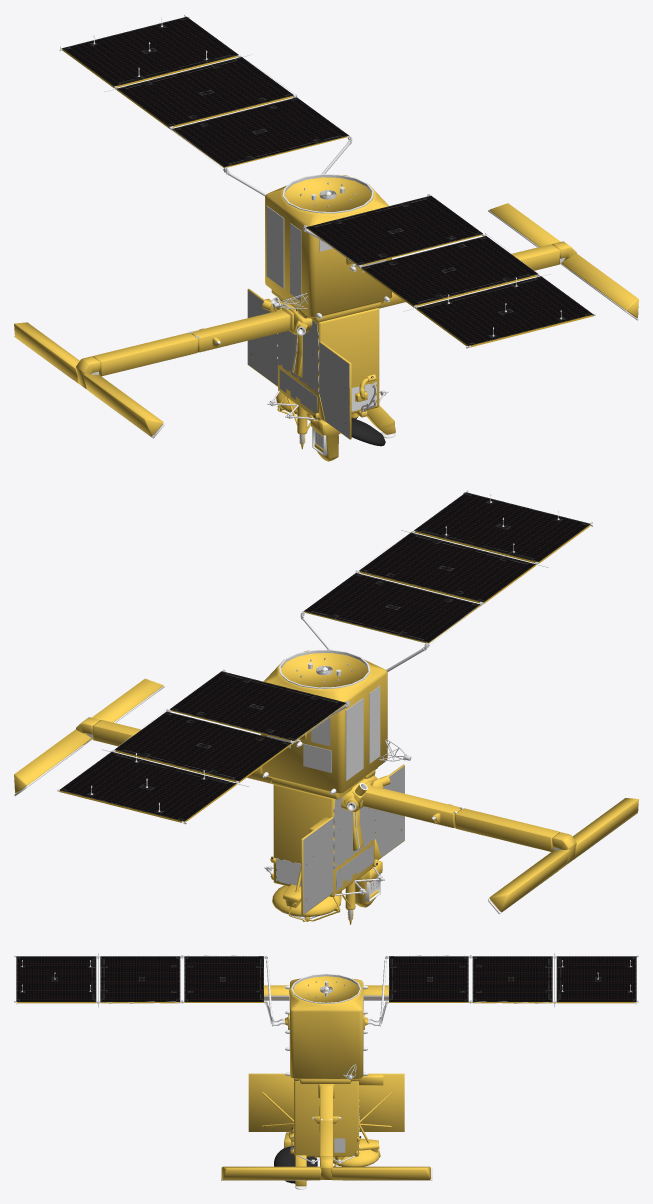
Rendered from sc_swot.glb.
3 views of the same model, one above another, from view 1: azimuth 30°, elevation 25°; view 2: azimuth 150°, elevation 25°; view 3: azimuth 270°, elevation 25° (orthographic). The views are drawn at different scales.
Parts seen in each view (by area): view 1: Cube.048, Cube.050, Cube.001, SC_2022_Gimbal_SWOT_SC_2022_cnes_bus_2021_sculpt1_cnes_bus_., Cube.024, Cube.003, Cube.026, Cube.061, SC_2022_Gimbal_SWOT_SC_2022_cnes_bus_2021_cnes_rads_2021.002, Cube.059, Cube.013; view 2: Cube.050, Cube.048, Cube.001, SC_2022_Gimbal_SWOT_SC_2022_cnes_bus_2021_sculpt1_cnes_bus_., Cube.024, Cube.003, SC_2022_Gimbal_SWOT_SC_2022_cnes_bus_2021_cnes_rads_2021.002, Cube.026, Cube.061, Cube.059, Cylinder, Cube.028; view 3: Cube.050, Cube.048, Cube.001, Cube.004, Cube.003, Cube.061, Cube.059, Cube.026, Cylinder, Cylinder.014, Cube.049, Cube.052 (+2 smaller).
Part boxes in pixels (x1,y1,x2,y2): Cube.048: (62, 16, 348, 167); Cube.050: (306, 195, 593, 347); Cube.001: (265, 175, 391, 317); SC_2022_Gimbal_SWOT_SC_2022_cnes_bus_2021_sculpt1_cnes_bus_.: (247, 290, 349, 438); Cube.024: (76, 305, 293, 388); Cube.003: (278, 308, 379, 420); Cube.026: (14, 322, 163, 436); Cube.061: (489, 203, 638, 317); SC_2022_Gimbal_SWOT_SC_2022_cnes_bus_2021_cnes_rads_2021.002: (266, 206, 386, 300); Cube.059: (379, 241, 576, 308); Cube.013: (310, 415, 340, 461); Cube.050: (303, 492, 590, 643); Cube.048: (59, 671, 346, 823); Cube.001: (260, 650, 387, 793); SC_2022_Gimbal_SWOT_SC_2022_cnes_bus_2021_sculpt1_cnes_bus_.: (303, 765, 404, 914); Cube.024: (359, 781, 576, 864); Cube.003: (273, 774, 374, 896); SC_2022_Gimbal_SWOT_SC_2022_cnes_bus_2021_cnes_rads_2021.002: (267, 686, 380, 780); Cube.026: (489, 798, 638, 912); Cube.061: (14, 678, 163, 793); Cube.059: (76, 717, 273, 784); Cylinder: (272, 885, 341, 916); Cube.028: (279, 649, 370, 688); Cube.050: (16, 956, 263, 1003); Cube.048: (389, 956, 636, 1003); Cube.001: (289, 976, 363, 1079); Cube.004: (248, 1073, 404, 1131); Cube.003: (294, 1081, 358, 1156); Cube.061: (221, 1166, 430, 1180); Cube.059: (318, 1084, 334, 1179); Cube.026: (264, 985, 388, 995); Cylinder: (333, 1149, 379, 1166); Cylinder.014: (274, 1146, 317, 1183); Cube.049: (14, 953, 285, 1026); Cube.052: (367, 953, 638, 1026).
Bounding box in the file's own units: 1.29 × 0.6753 × 1.85.
Materials: 16 (3 with a texture image).
